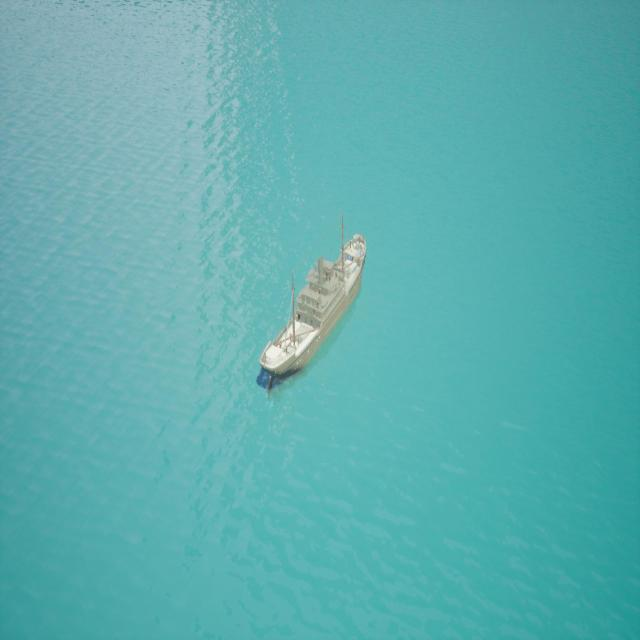fishing ship: (255, 209, 381, 418)
